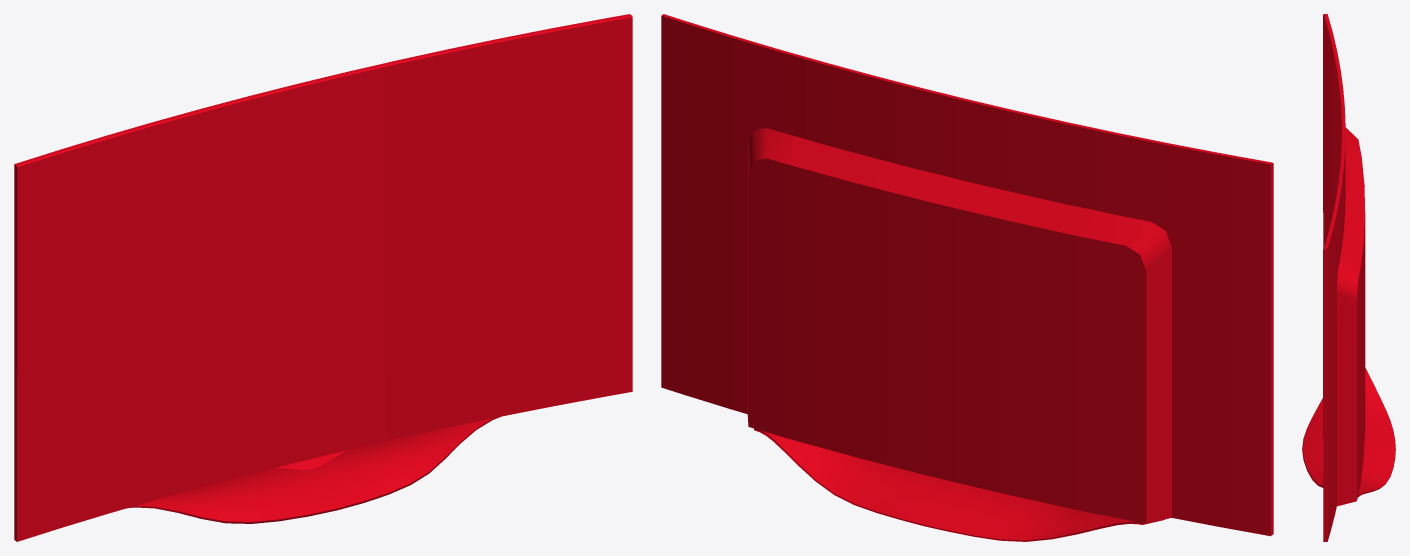
Rendered from TvCurve.FBX.
3 renders of one model, left to right at view 1: azimuth 30°, elevation 25°; view 2: azimuth 150°, elevation 25°; view 3: azimuth 270°, elevation 25°, orthographic. The views are drawn at different scales.
Visible parts, largest first — view 1: SM_TvCurve; view 2: SM_TvCurve; view 3: SM_TvCurve.
Part boxes in pixels (box(x1,y1,x2,y2)): SM_TvCurve: box(14, 14, 632, 541); SM_TvCurve: box(661, 14, 1273, 541); SM_TvCurve: box(1302, 14, 1395, 541).
Size of the model in its own units: 121 by 77 by 20.47.
